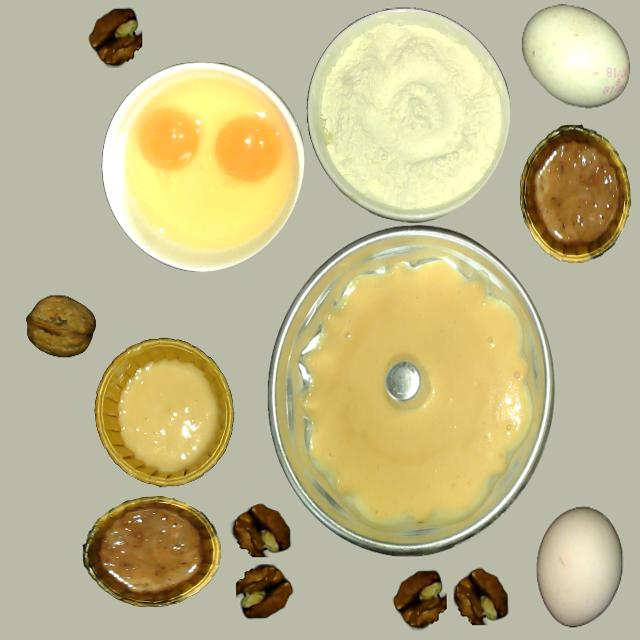Egg: (214, 115, 281, 183), (137, 107, 202, 173)
Flour: (317, 21, 503, 213)
Walnut: (25, 295, 95, 356)
